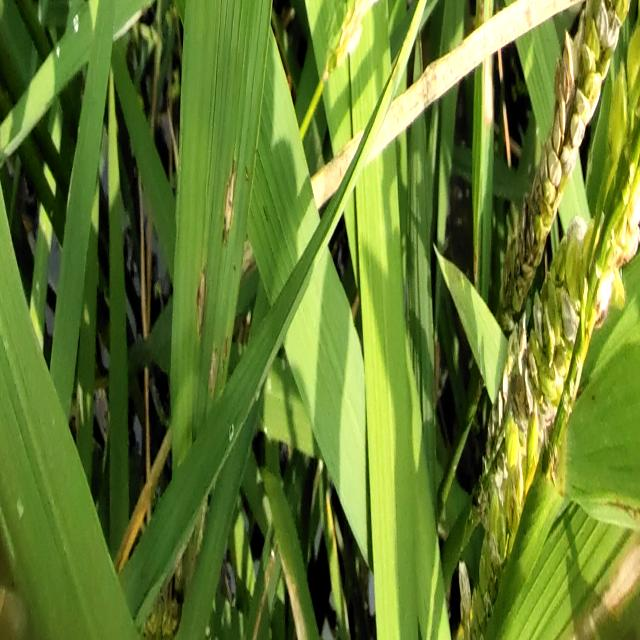LEAF BLAST: (223, 149, 235, 247), (196, 268, 207, 337)
